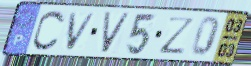0: (190, 15, 221, 59)
5: (123, 12, 159, 57)
C: (31, 9, 67, 53)
V: (100, 11, 133, 55), (64, 11, 98, 52)
Z: (159, 16, 198, 56)
